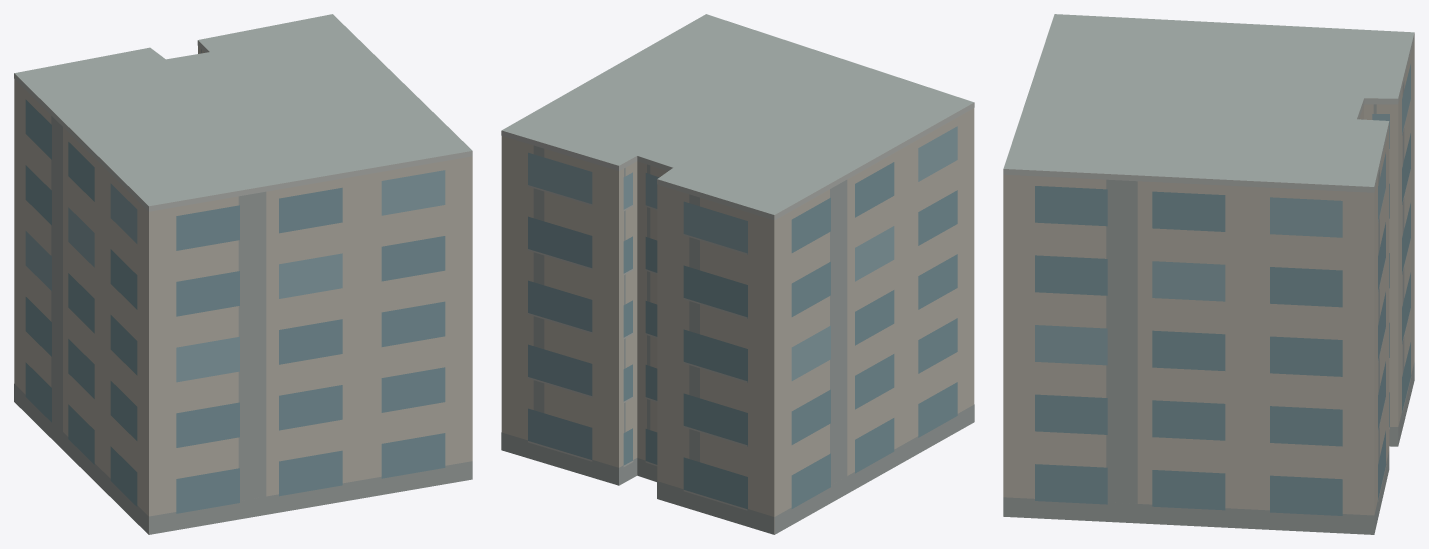
File: survey-upis-33004839.glb
The picture shows the model from 3 angles, left to right: view 1: azimuth 30°, elevation 25°; view 2: azimuth 150°, elevation 25°; view 3: azimuth 270°, elevation 25°; orthographic projection. The views are drawn at different scales.
Parts seen in each view (by area): view 1: survey-upis-33004839.tmp; view 2: survey-upis-33004839.tmp; view 3: survey-upis-33004839.tmp.
Boxes of the visible parts, x1,y1,x2,y2 form: survey-upis-33004839.tmp: (14,14,472,534); survey-upis-33004839.tmp: (501,14,974,534); survey-upis-33004839.tmp: (1003,14,1414,534).
Bounding box in the file's own units: 15.58 × 14.6 × 15.65.
